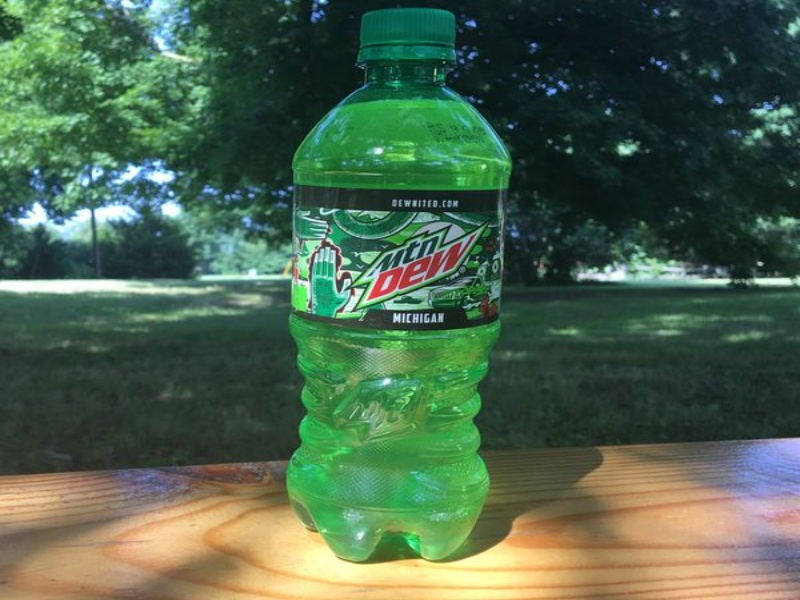Plastic bottle: (245, 6, 535, 572)
